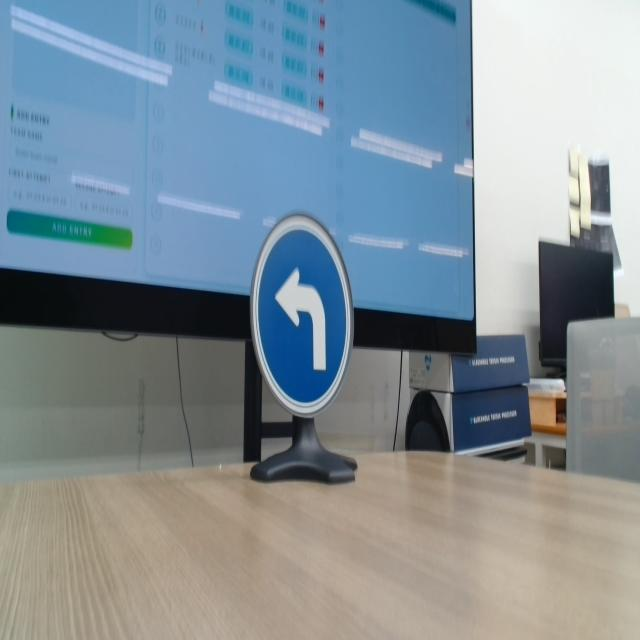left_direction: (244, 206, 364, 428)
